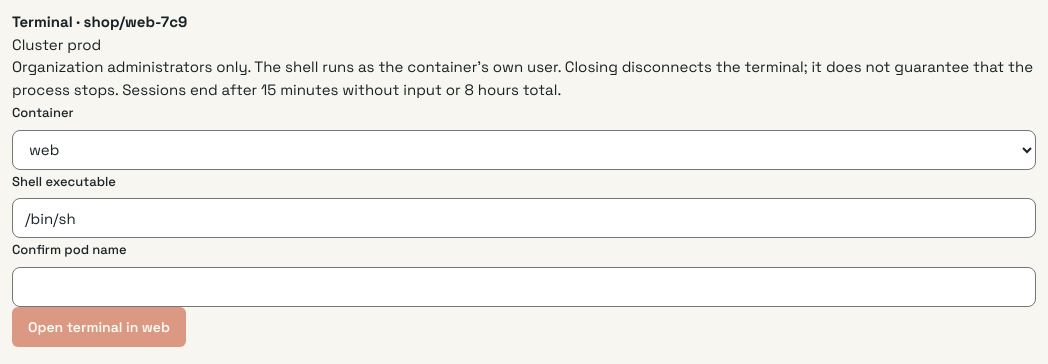
Test: words the forbidden close reason in fixed text
The image size is (1048, 364).
Step 1. Type "web-7c9" into the field labelled "Confirm pod name" → point(524, 286), box [12, 266, 1036, 306]
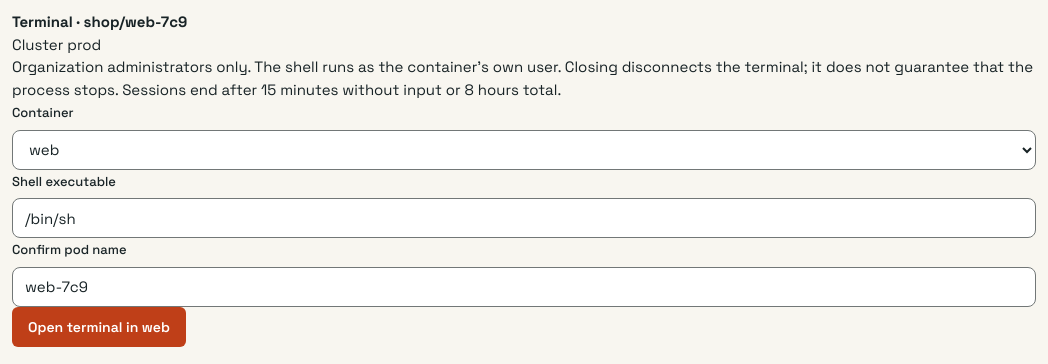
Step 2. Click the button "Open terminal in web" → point(99, 326), box [12, 306, 186, 346]
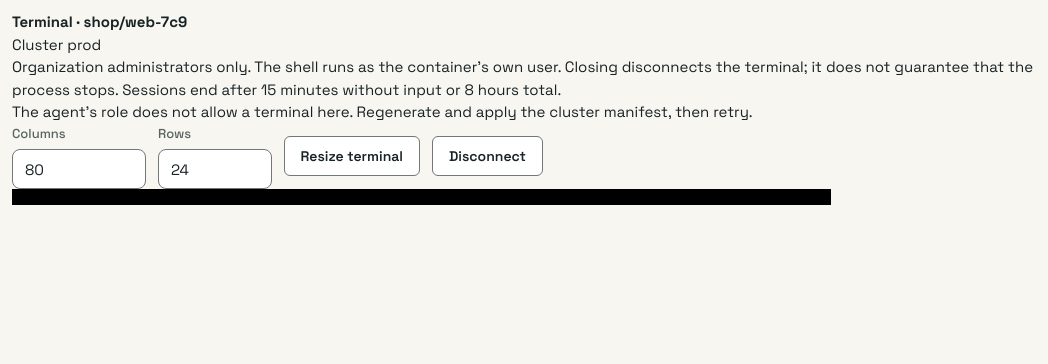
Now the message shows "The agent's role does not allow a terminal here. Regenerate and apply the cluster manifest, then retry.", box [12, 102, 753, 121]
